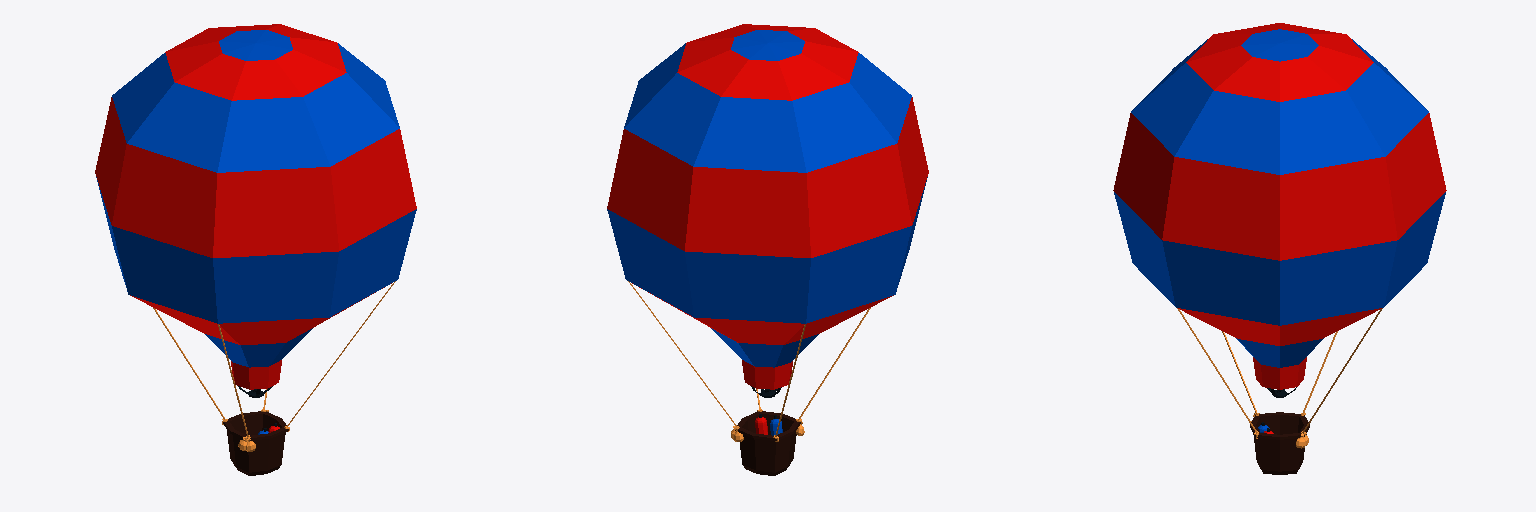
Rendered from Hot_Air_Balloon_01.obj.
The picture shows the model from 3 angles: view 1: azimuth 30°, elevation 25°; view 2: azimuth 150°, elevation 25°; view 3: azimuth 270°, elevation 25°; orthographic projection.
Parts seen in each view (by area): view 1: Cube.031_Cube.032; view 2: Cube.031_Cube.032; view 3: Cube.031_Cube.032.
Part boxes in pixels (left/top/right/bottom): Cube.031_Cube.032: left=95, top=24, right=416, bottom=475; Cube.031_Cube.032: left=607, top=24, right=928, bottom=475; Cube.031_Cube.032: left=1113, top=23, right=1446, bottom=474.
Bounding box in the file's own units: 7.06 × 9.94 × 7.06.